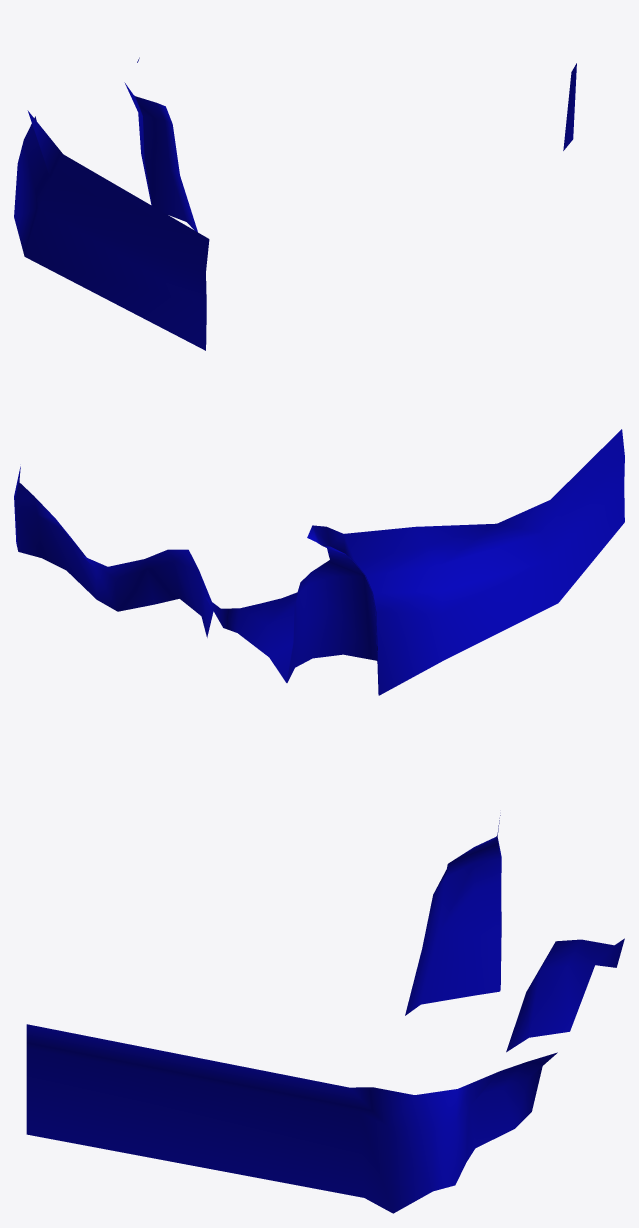
File: BlizzardMountainCave.glb
The picture shows the model from 3 angles, top to bottom: view 1: azimuth 30°, elevation 25°; view 2: azimuth 150°, elevation 25°; view 3: azimuth 270°, elevation 25°; orthographic projection. The views are drawn at different scales.
Visible parts, largest first — view 1: BlizzardMountainCave; view 2: BlizzardMountainCave; view 3: BlizzardMountainCave.
Boxes of the visible parts, x1,y1,x2,y2 form: BlizzardMountainCave: (14, 57, 576, 350); BlizzardMountainCave: (14, 429, 624, 695); BlizzardMountainCave: (26, 815, 624, 1213).
Size of the model in its own units: 20.04 by 6.36 by 15.83.
